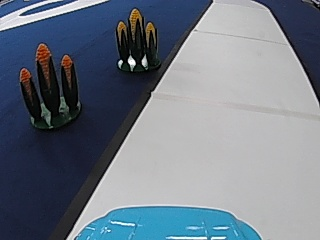corn: (19, 42, 85, 129), (113, 4, 162, 72)
